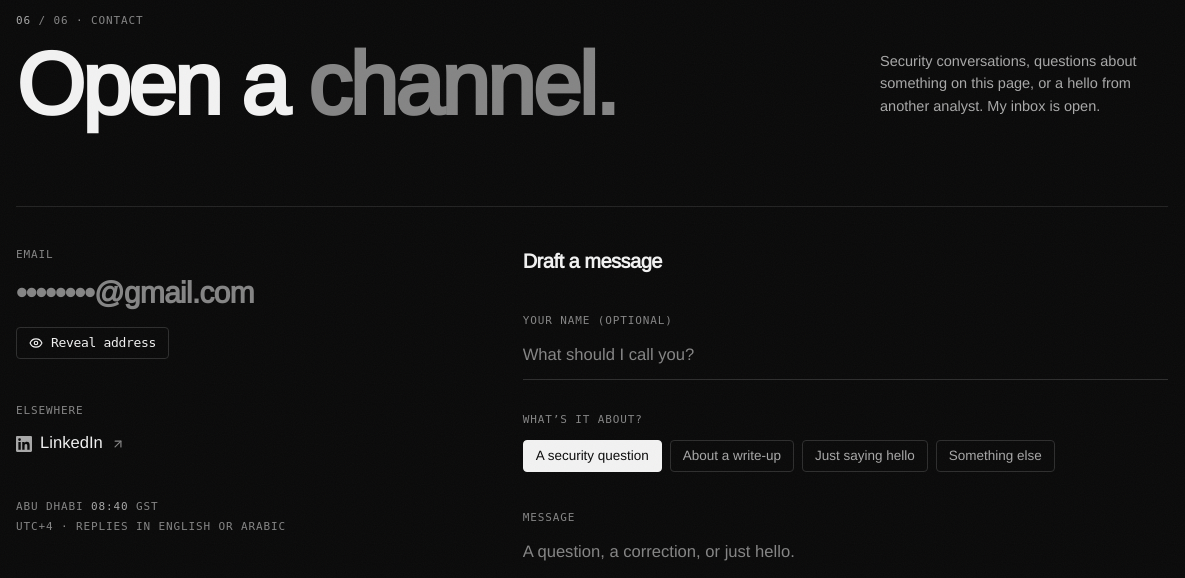
Test: ContactSection › offers the topics as a single choice
This screenshot has width=1185, height=578.
Click the radio button labelled "Just saying hello" at {"x": 865, "y": 456}, box 802,440 -> 928,472
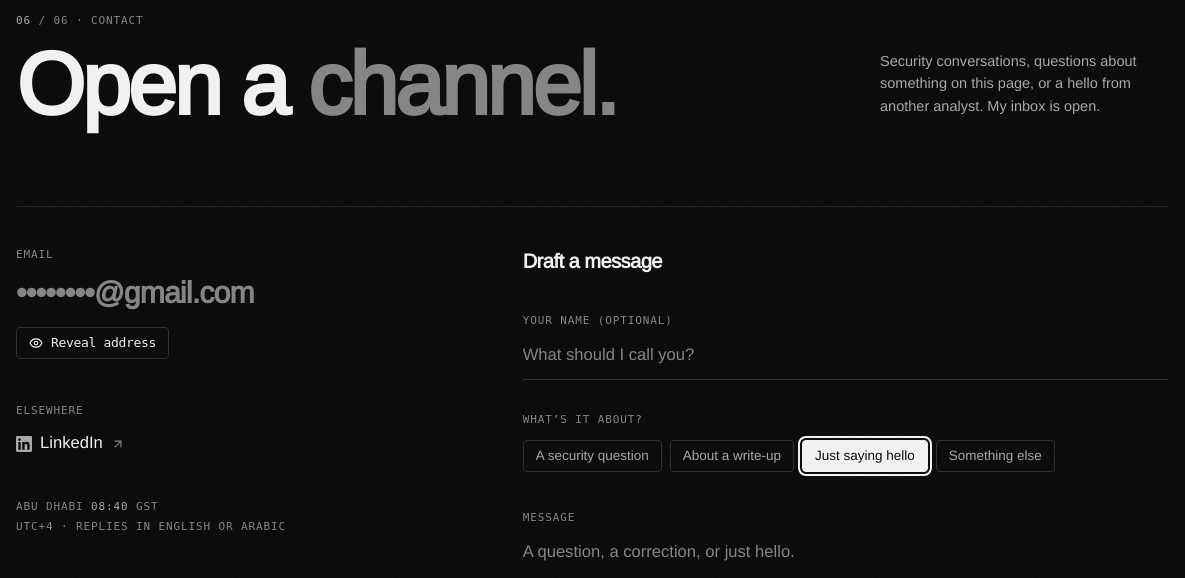
expect the radio button labelled "Just saying hello" is checked: met, box 802,440 -> 928,472
expect the radio button labelled "A security question" is not checked: met, box 523,440 -> 662,472
